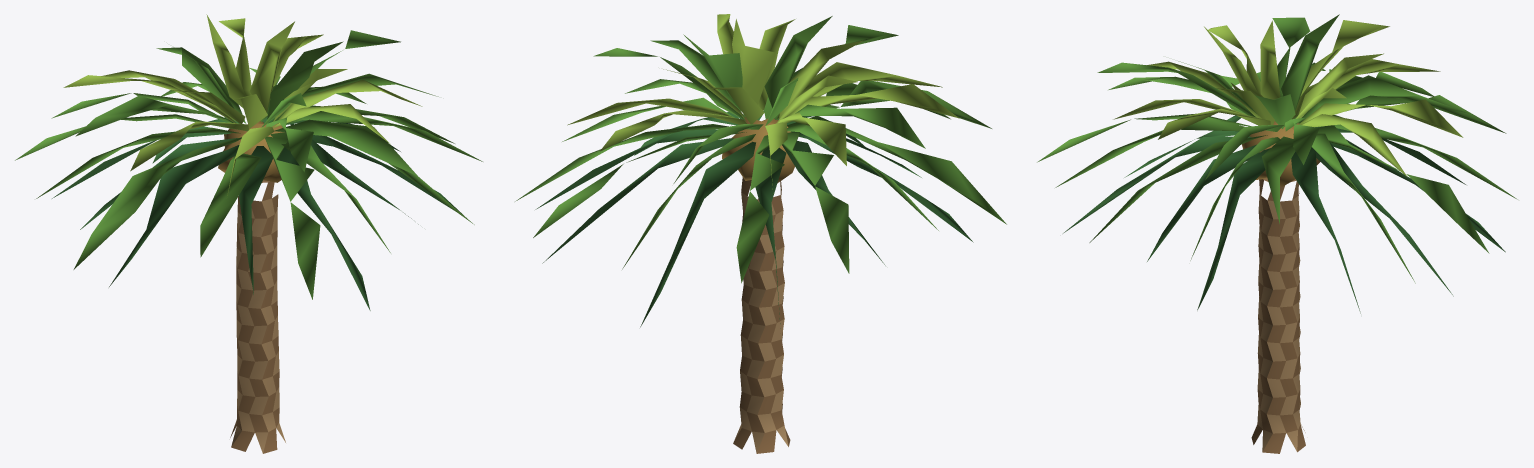
File: tree_palm_far.glb
3 renders of one model, left to right at view 1: azimuth 30°, elevation 25°; view 2: azimuth 150°, elevation 25°; view 3: azimuth 270°, elevation 25°, orthographic.
Parts seen in each view (by area): view 1: leaves, trunk; view 2: leaves, trunk; view 3: leaves, trunk.
Part boxes in pixels (bbox=[...]): leaves: bbox=[15, 14, 482, 310]; trunk: bbox=[230, 180, 285, 453]; leaves: bbox=[515, 14, 1006, 328]; trunk: bbox=[733, 177, 790, 453]; leaves: bbox=[1037, 14, 1517, 313]; trunk: bbox=[1251, 178, 1305, 453].
Size of the model in its own units: 10.05 by 9.22 by 10.19.
